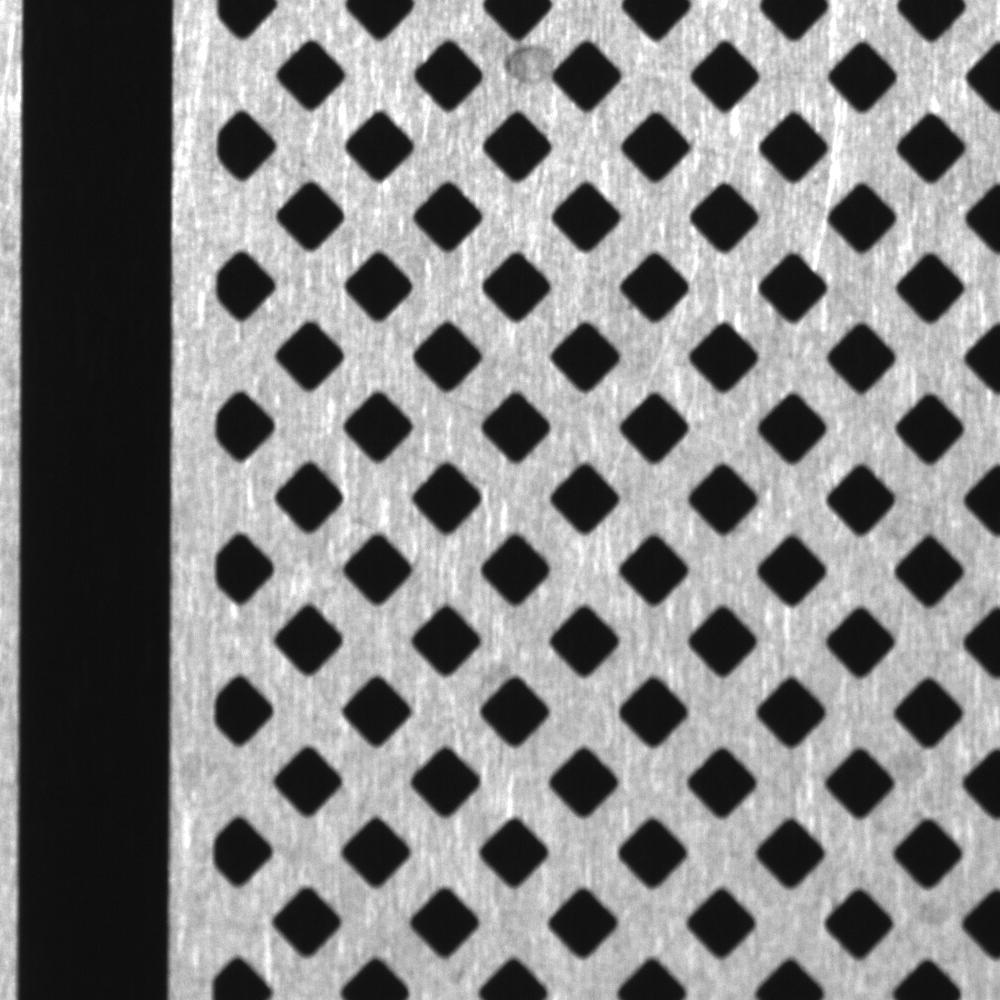Discolor: (485, 37, 563, 99)
